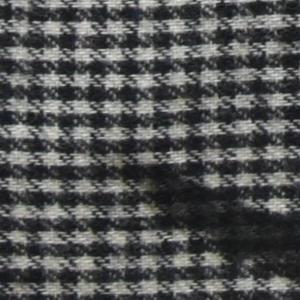Stain: (121, 161, 300, 284)
